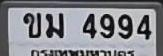4: (136, 13, 150, 39), (82, 12, 95, 38)
9: (117, 13, 131, 38), (99, 13, 113, 37)
A02: (22, 12, 40, 37)
A33: (45, 12, 63, 37)
